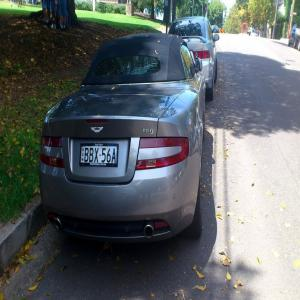Vehicle-registration-plate: (77, 135, 123, 189)
